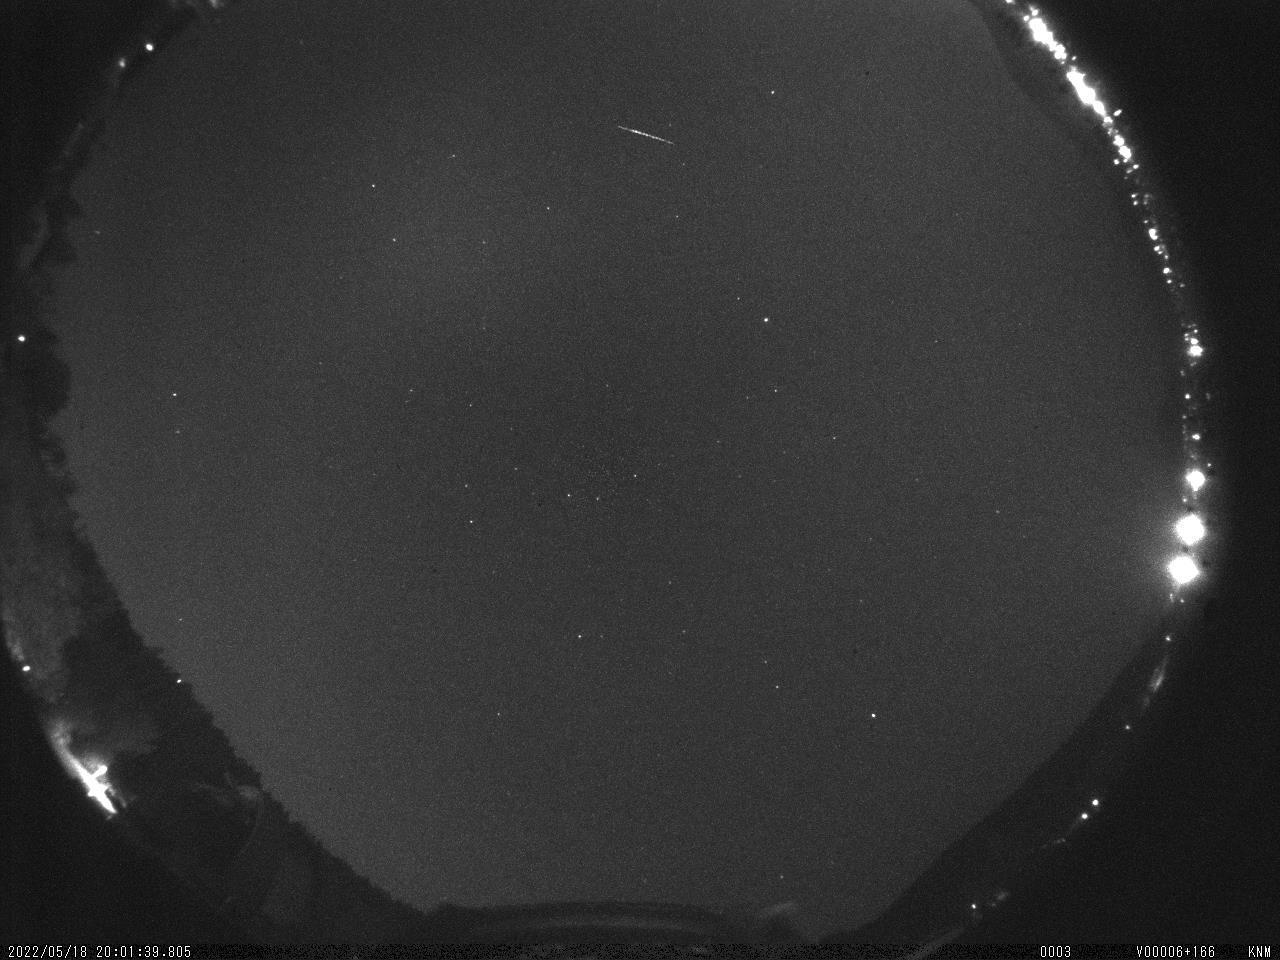Meteor: (612, 120, 679, 146)
